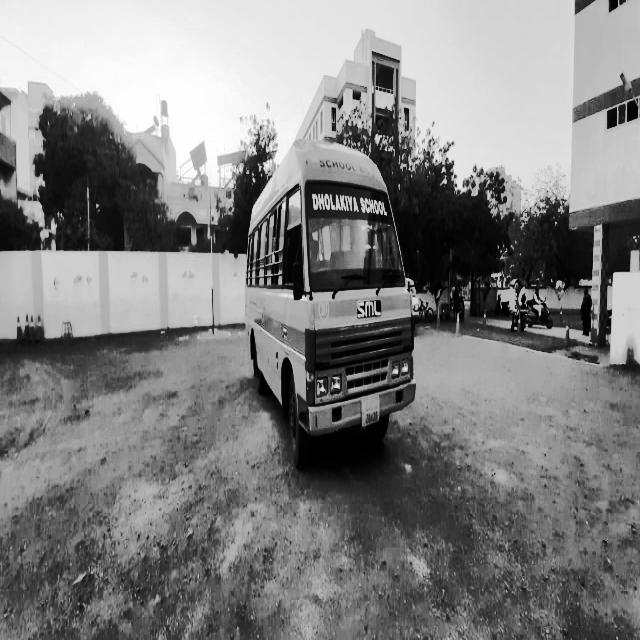Bus: (242, 132, 428, 488)
